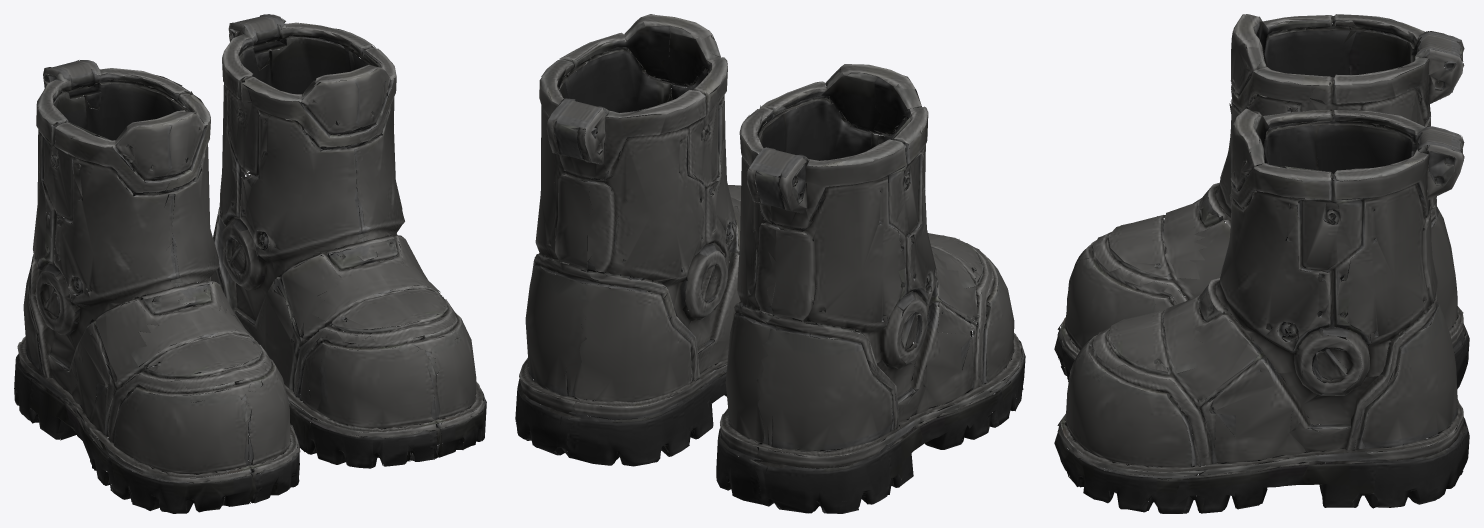
Rendered from piece_boot_classic.glb.
The picture shows the model from 3 angles, left to right: view 1: azimuth 30°, elevation 25°; view 2: azimuth 150°, elevation 25°; view 3: azimuth 270°, elevation 25°; orthographic projection. The views are drawn at different scales.
Parts seen in each view (by area): view 1: trait_boot_classic_right, trait_boot_classic_left; view 2: trait_boot_classic_right, trait_boot_classic_left; view 3: trait_boot_classic_left, trait_boot_classic_right.
Part boxes in pixels (left/top/right/bottom): trait_boot_classic_right: left=14, top=60, right=300, bottom=513; trait_boot_classic_left: left=211, top=14, right=486, bottom=468; trait_boot_classic_right: left=716, top=64, right=1025, bottom=513; trait_boot_classic_left: left=515, top=14, right=756, bottom=466; trait_boot_classic_left: left=1054, top=108, right=1469, bottom=513; trait_boot_classic_right: left=1054, top=14, right=1469, bottom=416.
Bounding box in the file's own units: 0.5614 × 0.5015 × 0.5404.
2 materials, 2 textured.
